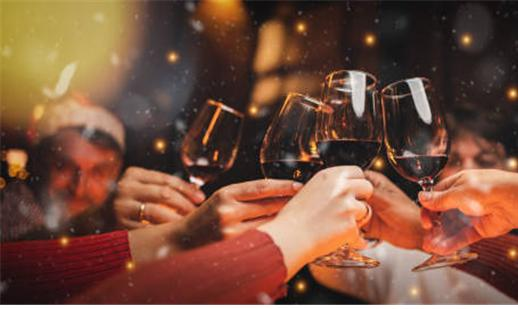alcohol: (382, 74, 476, 277), (312, 68, 381, 269), (262, 90, 333, 187), (178, 98, 243, 188)
